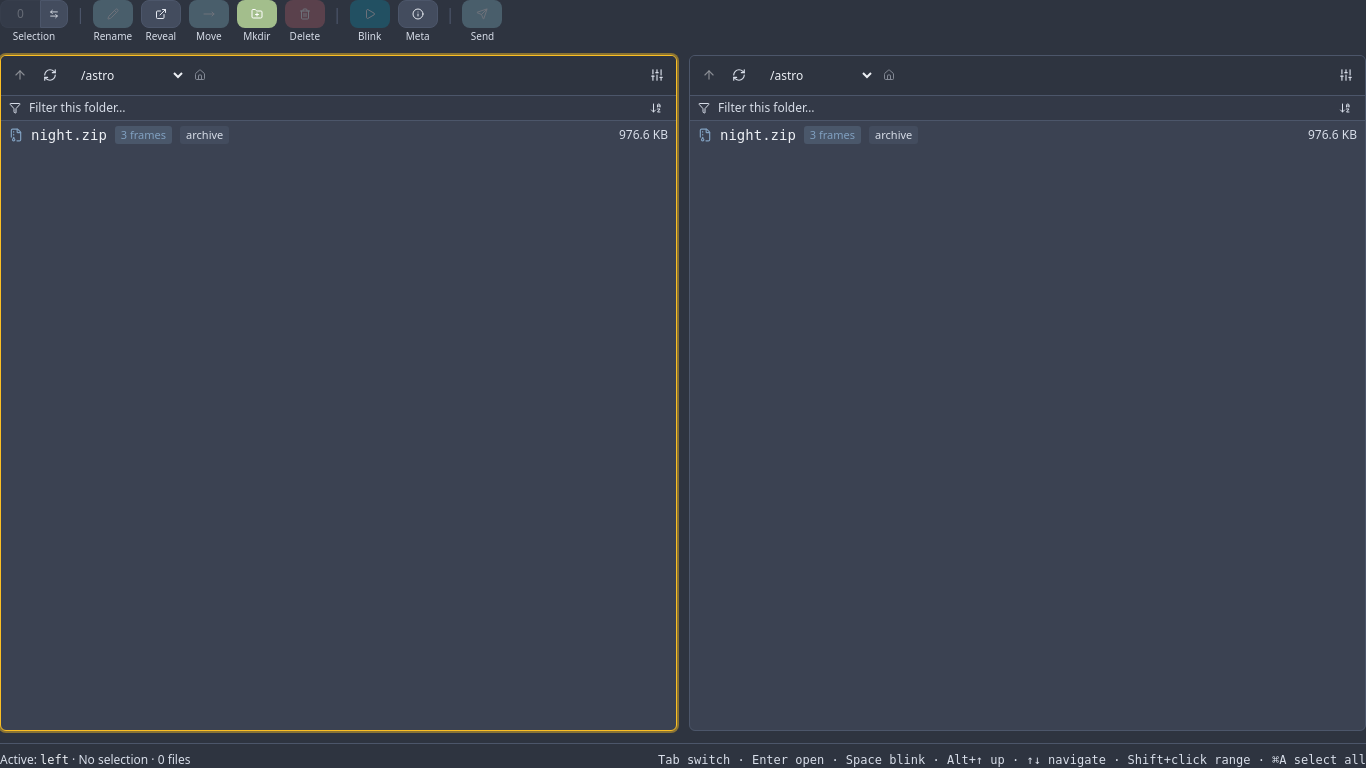
Scenario: DualPaneFileBrowser — zips › warns that an archive written by Move and ZIP is the only copy
Click the 1st text "night.zip": (69, 134) [31,124,107,144]
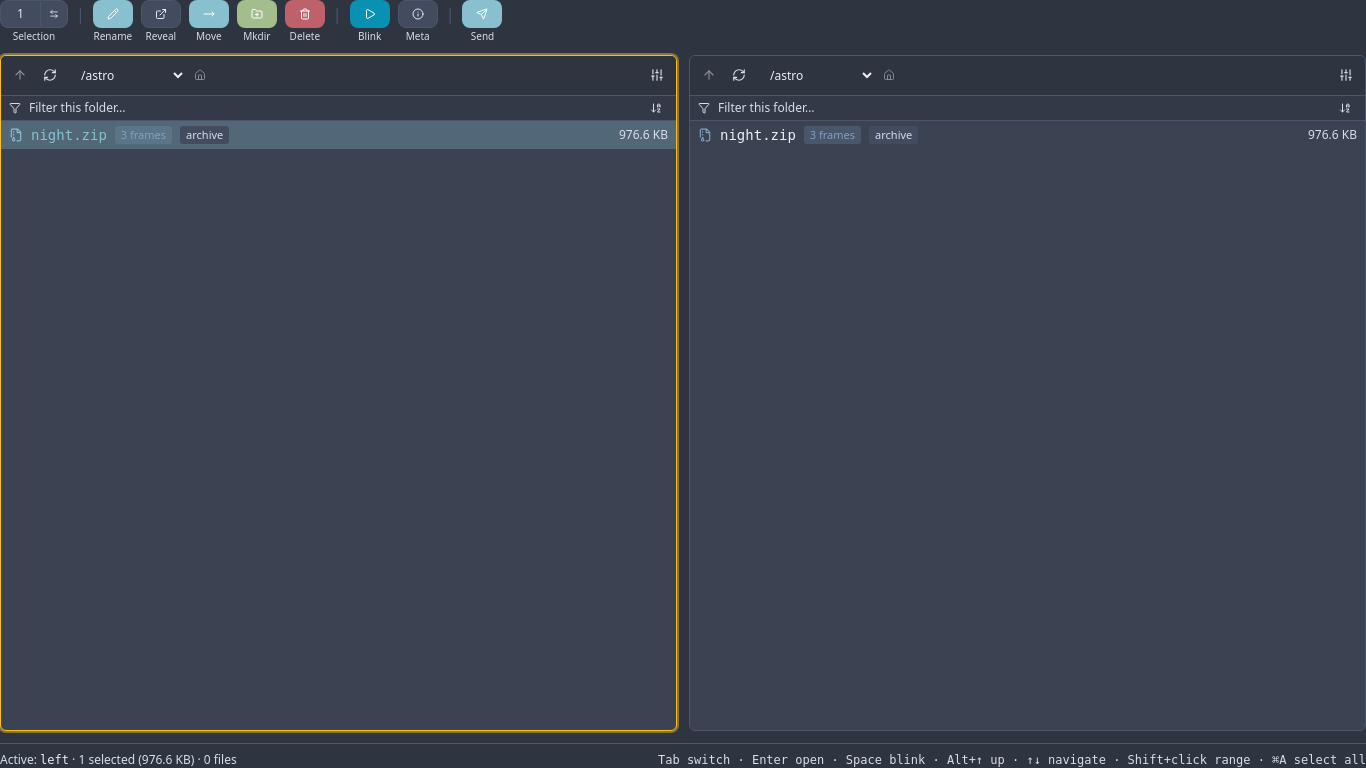
Press F8
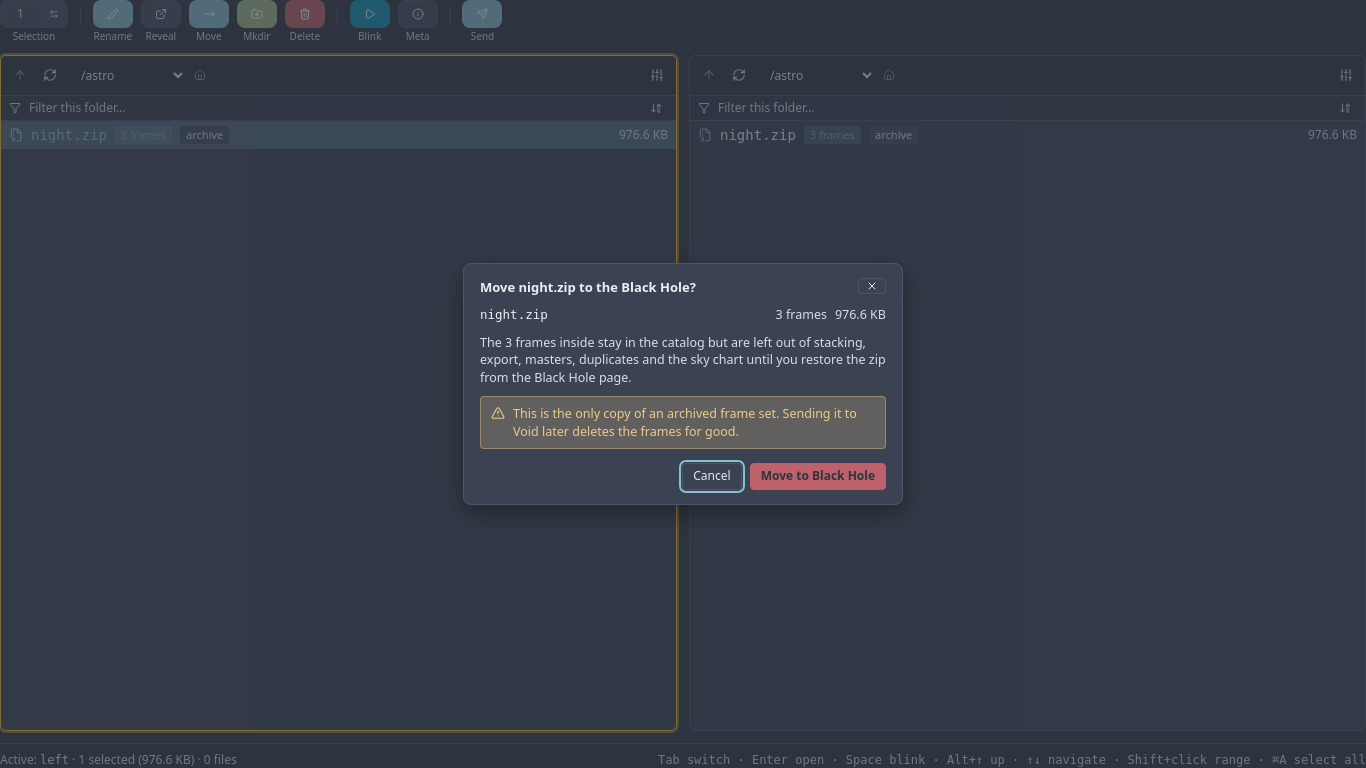
expect the message shows "This is the only copy of an archived frame set": met, box [513,405,776,422]
